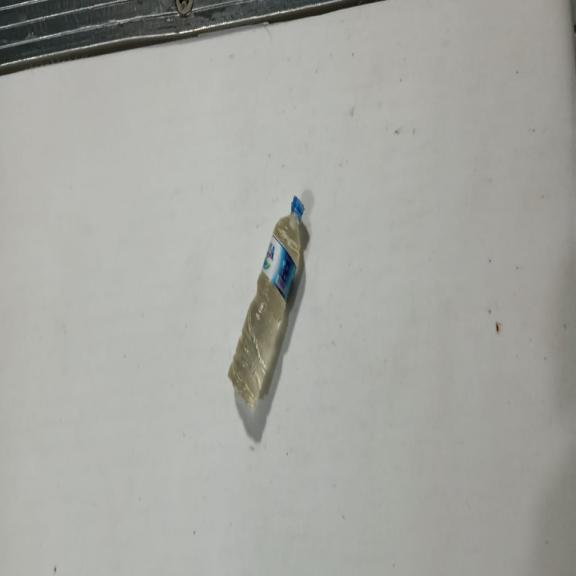Plastik: (228, 195, 304, 410)
